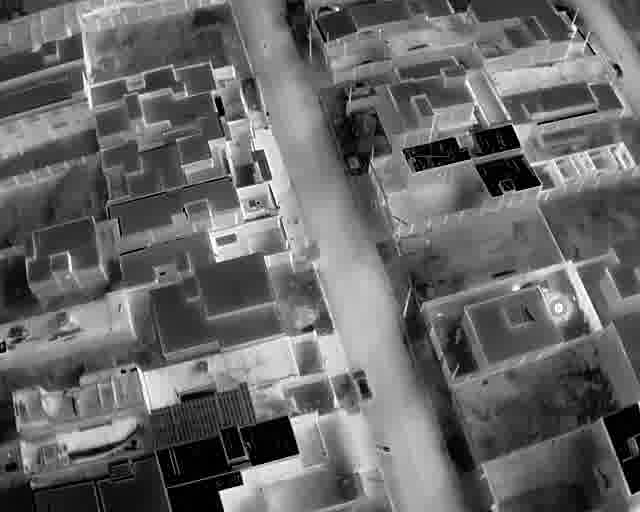car: (350, 366, 374, 401), (344, 79, 372, 96), (314, 4, 340, 19), (609, 56, 624, 80)
motorcycle: (374, 441, 392, 453)
